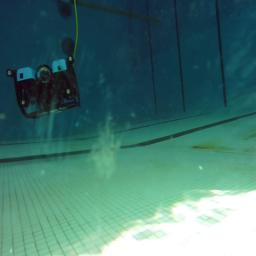front: (5, 55, 81, 119)
